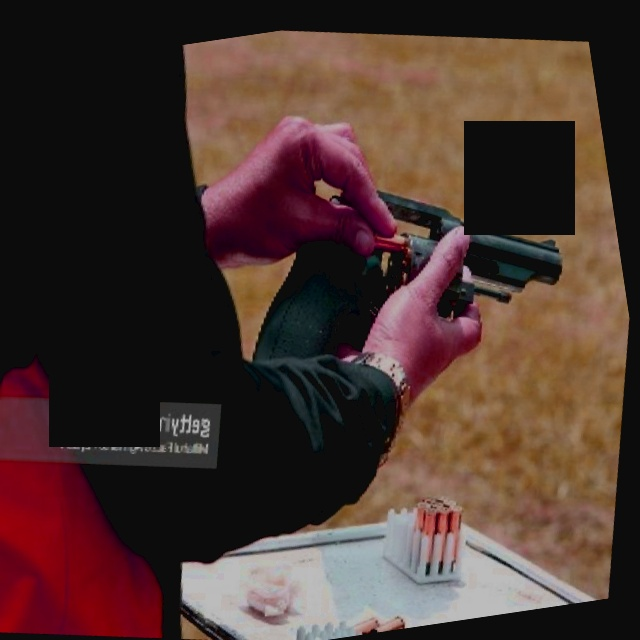gun: (218, 109, 611, 419)
